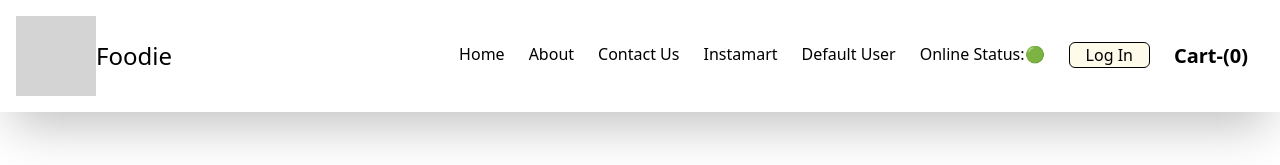
Test case: Should show Logout text while click on Log in
What coordinates should you click on to do the following:
click the button "Log In"
I would click on:
 (1109, 55)
Its box is [1069,42,1150,68].
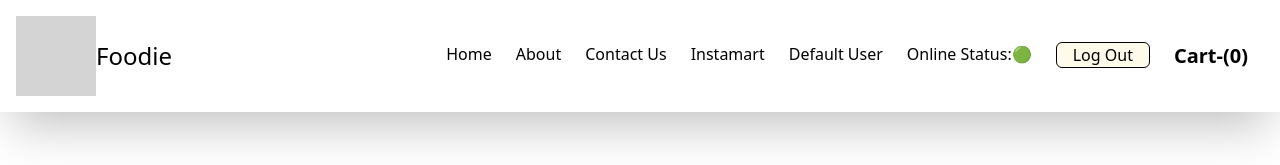
Check: the button "Log Out" is shown, box [1056,42,1150,68]
